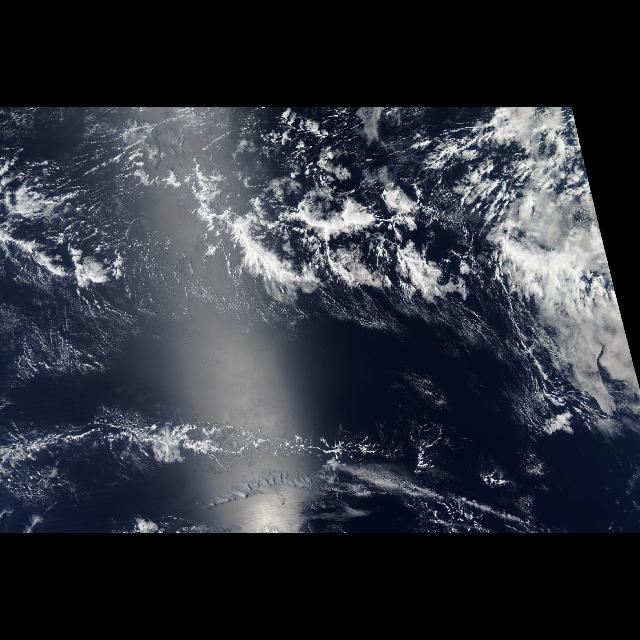Fish: (10, 164, 516, 356)
Sugar: (18, 310, 526, 418)
